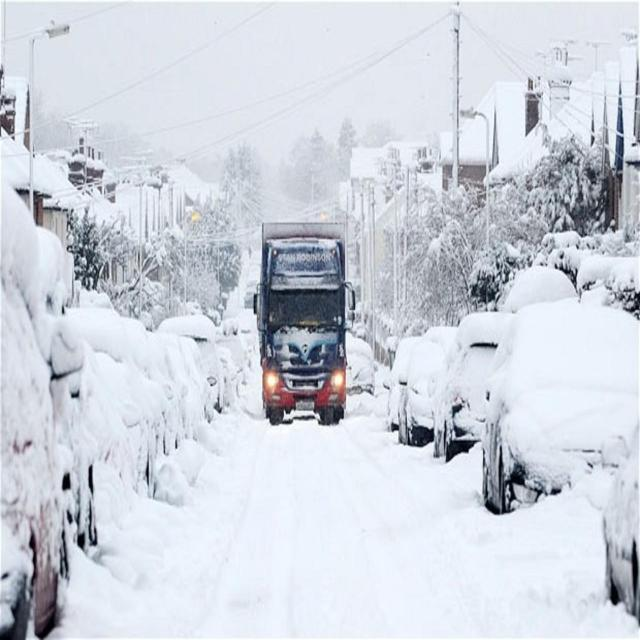Car: (0, 188, 90, 640), (479, 304, 640, 508), (438, 304, 505, 459), (599, 399, 640, 611), (398, 323, 452, 450), (384, 336, 418, 429), (342, 338, 380, 397)
Truck: (250, 218, 358, 422)
